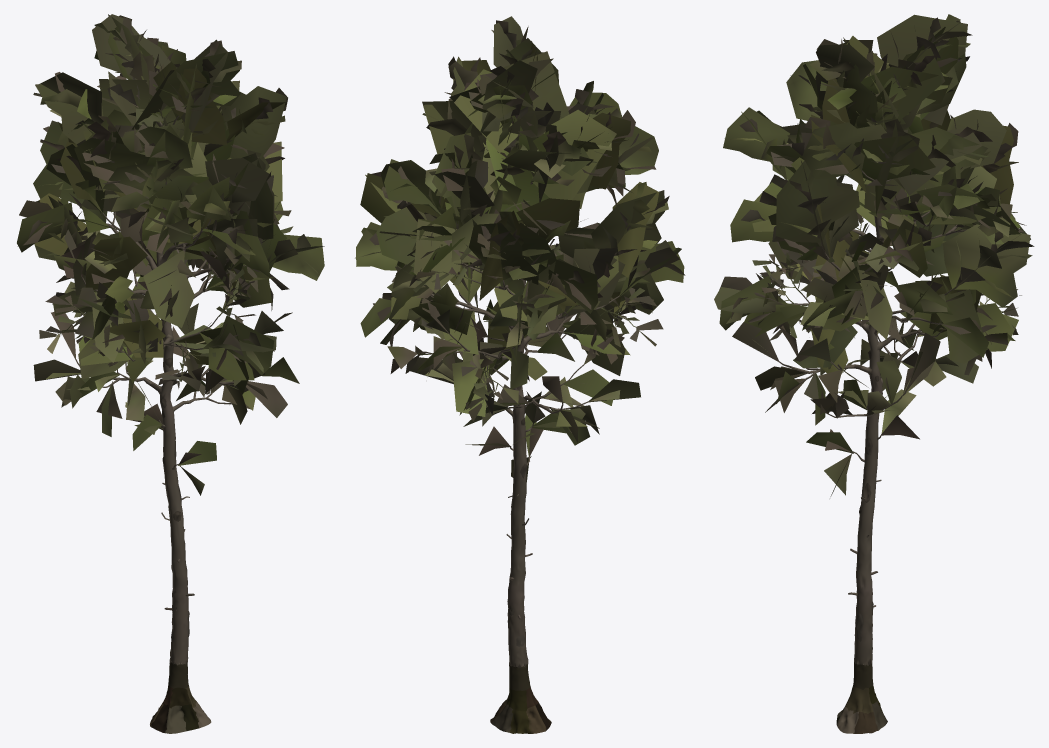
Rendered from SM_BlackAlder_Forest_03_PP_LOD3.gltf.
3 renders of one model, left to right at view 1: azimuth 30°, elevation 25°; view 2: azimuth 150°, elevation 25°; view 3: azimuth 270°, elevation 25°, orthographic. The views are drawn at different scales.
Visible parts, largest first — view 1: SM_BlackAlder_Forest_03_PP; view 2: SM_BlackAlder_Forest_03_PP; view 3: SM_BlackAlder_Forest_03_PP.
Part boxes in pixels (x1=…): SM_BlackAlder_Forest_03_PP: x1=17, y1=14, x2=324, y2=733; SM_BlackAlder_Forest_03_PP: x1=355, y1=16, x2=685, y2=733; SM_BlackAlder_Forest_03_PP: x1=714, y1=14, x2=1034, y2=733.
Size of the model in its own units: 7.23 by 17.63 by 7.37.
4 materials, 4 textured.
